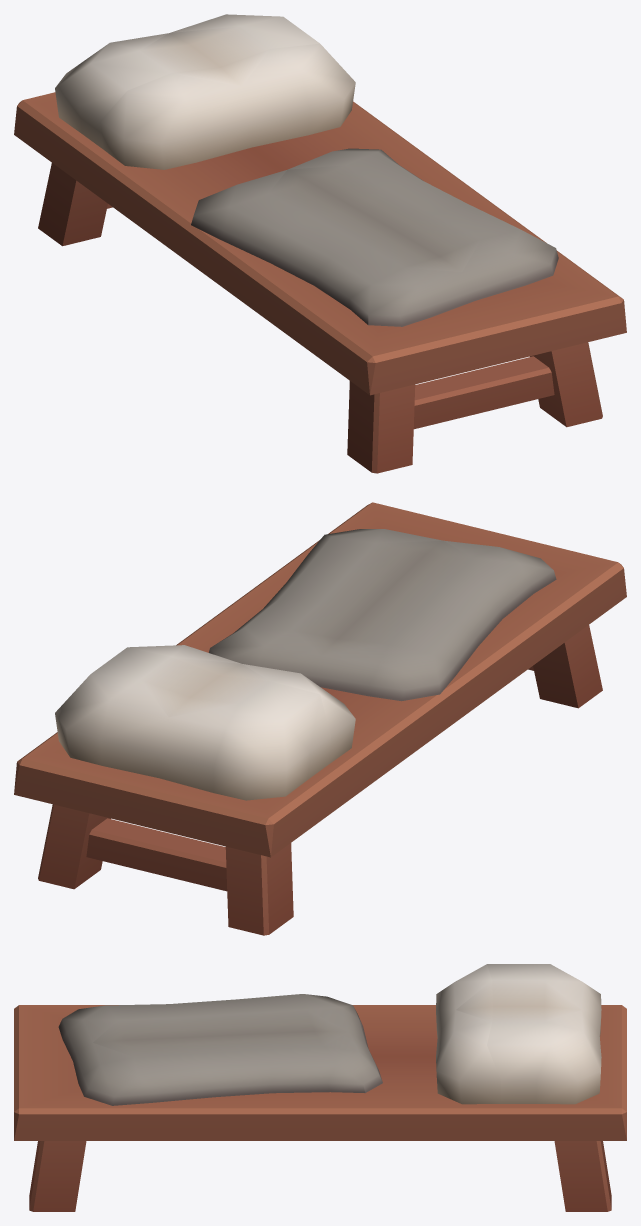
The model's file is BunksR2L.glb.
3 views of the same model, one above another, from view 1: azimuth 30°, elevation 25°; view 2: azimuth 150°, elevation 25°; view 3: azimuth 270°, elevation 25° (orthographic). The views are drawn at different scales.
Visible parts, largest first — view 1: bed_frame; view 2: bed_frame; view 3: bed_frame.
Part boxes in pixels (x1,y1,x2,y2): bed_frame: (14, 14, 626, 473); bed_frame: (14, 502, 626, 935); bed_frame: (14, 964, 626, 1211).
Size of the model in its own units: 1 by 0.7 by 2.4.
Materials: 1 (1 with a texture image).
